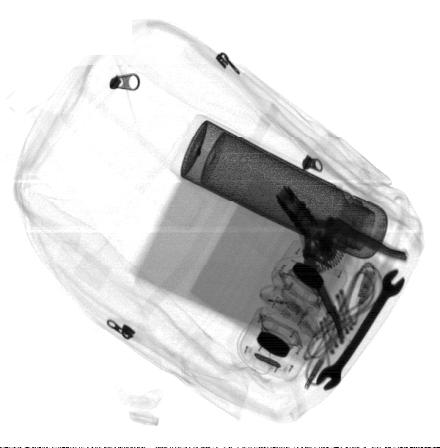Pliers: (272, 180, 409, 344)
Wrench: (316, 268, 405, 390)
